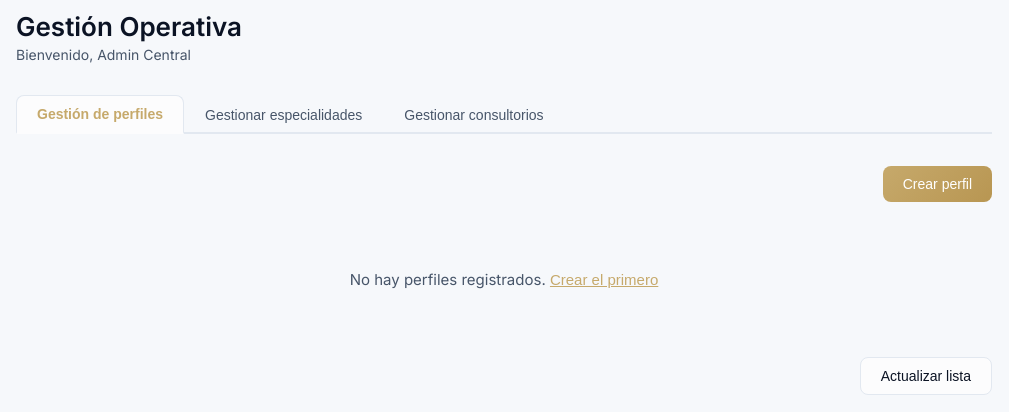
Test case: AdminProfilesPage › switches to specialties mode and hides profile and office views
Click the button with test id "btn-mode-specialties".
click(284, 114)  # box left=184, top=95, right=383, bottom=134
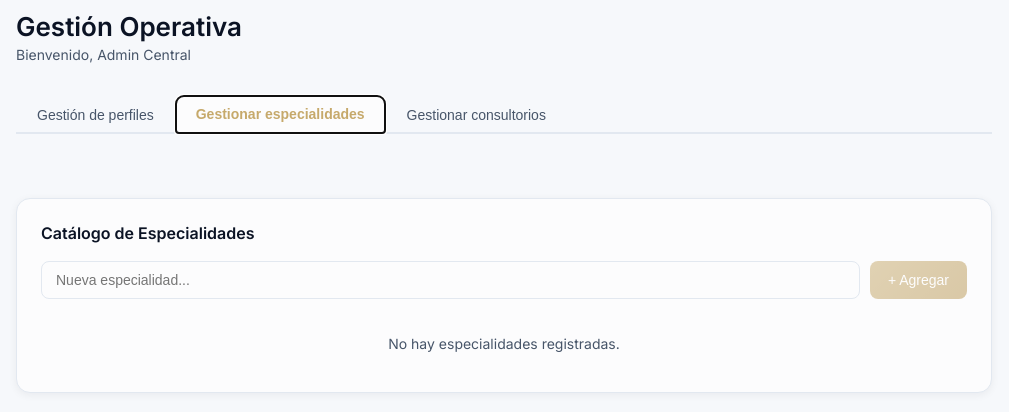
Expected: the element with test id "specialty-manager" is shown, left=16, top=198, right=992, bottom=393
Expected: the form with test id "specialty-add-form" is shown, left=41, top=261, right=967, bottom=299
Expected: the button with test id "btn-add-specialty" is shown, left=870, top=261, right=967, bottom=299
